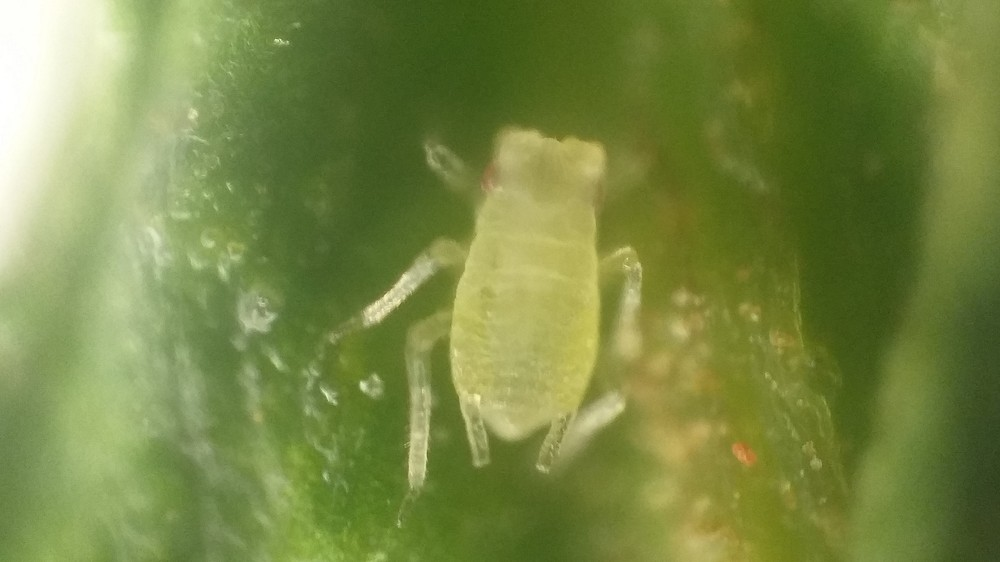Pulgon: (328, 95, 711, 530)
